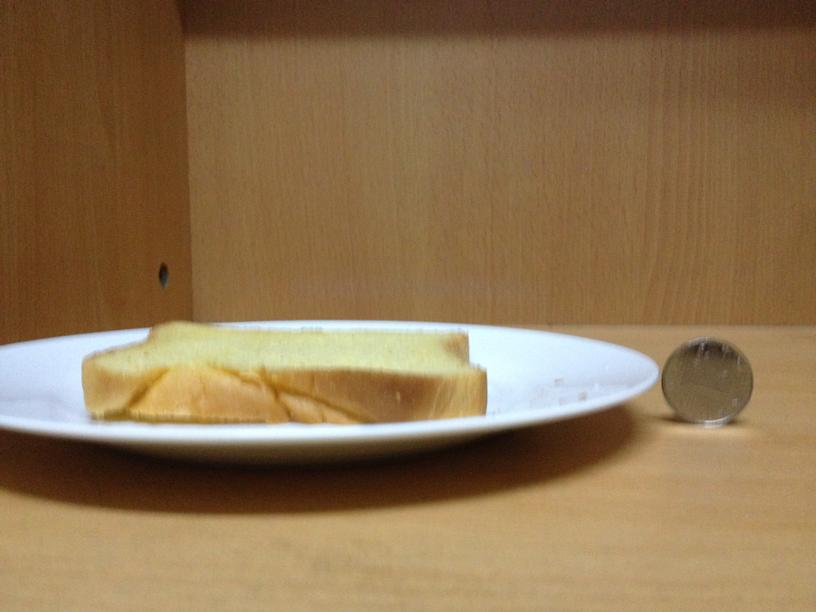bread: (84, 315, 489, 423)
coin: (660, 334, 753, 424)
